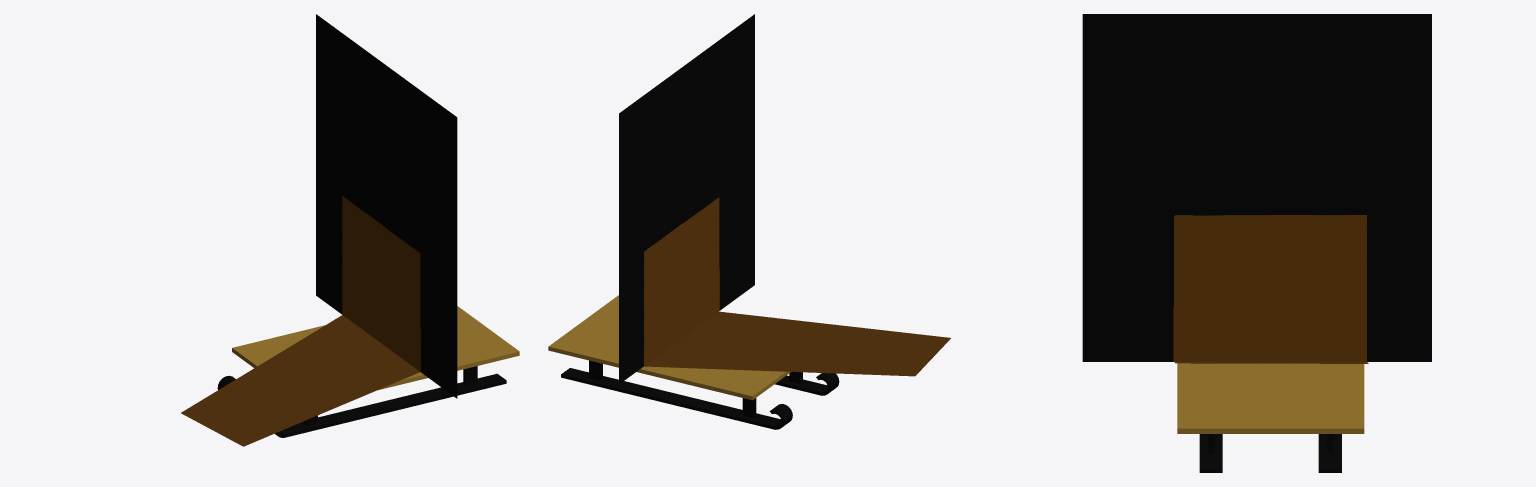
The model's file is Sled Puzzle.fbx.
3 views of the same model, side by side, from view 1: azimuth 30°, elevation 25°; view 2: azimuth 150°, elevation 25°; view 3: azimuth 270°, elevation 25° (orthographic). The views are drawn at different scales.
Visible parts, largest first — view 1: pPlane2, pPlane1, pCube1, pCube6; view 2: pPlane2, pPlane1, pCube1, pCube7; view 3: pPlane2, pCube1, pCube7, pCube6.
Part boxes in pixels (x1=…): pPlane2: x1=316, y1=14, x2=457, y2=398; pPlane1: x1=181, y1=315, x2=419, y2=446; pCube1: x1=232, y1=306, x2=519, y2=389; pCube6: x1=280, y1=373, x2=506, y2=437; pPlane2: x1=619, y1=14, x2=754, y2=384; pPlane1: x1=644, y1=311, x2=950, y2=376; pCube1: x1=548, y1=295, x2=790, y2=400; pCube7: x1=561, y1=368, x2=781, y2=429; pPlane2: x1=1082, y1=14, x2=1431, y2=361; pCube1: x1=1177, y1=363, x2=1364, y2=433; pCube7: x1=1318, y1=434, x2=1341, y2=472; pCube6: x1=1199, y1=434, x2=1222, y2=472.
Bounding box in the file's own units: 11.24 × 9.46 × 10.04.
Materials: 4 (2 with a texture image).
